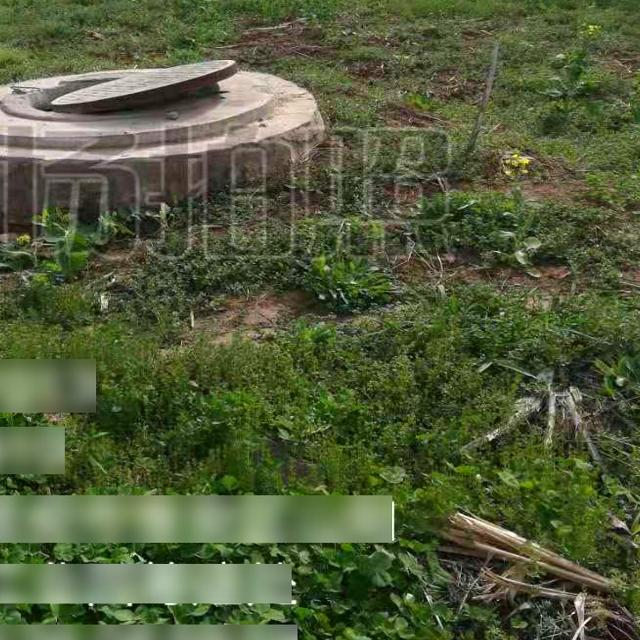uncovered: (0, 60, 281, 137)
